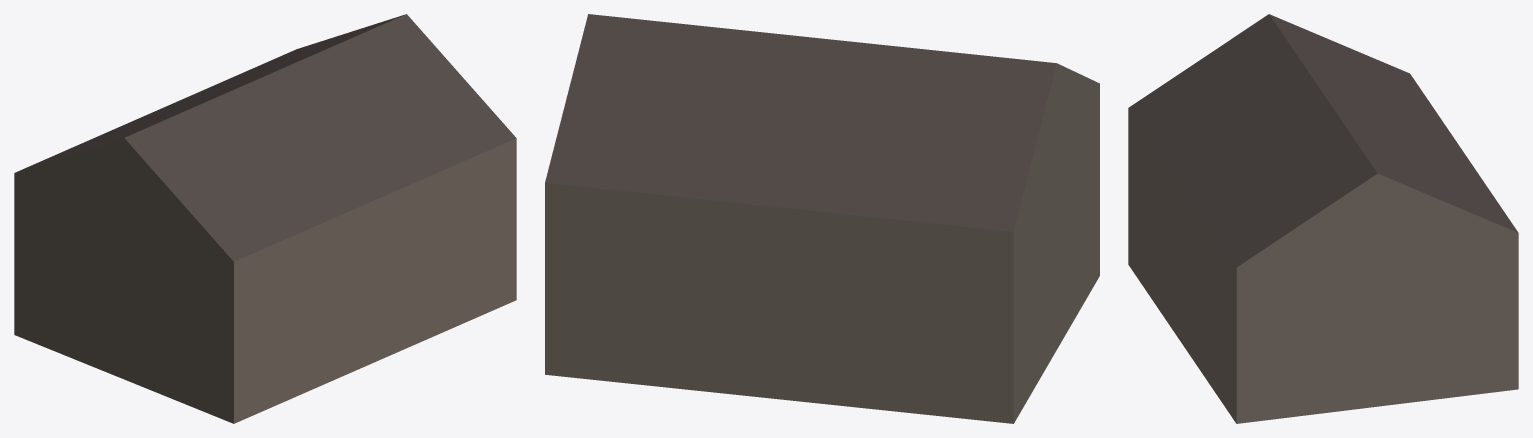
3 renders of one model, left to right at view 1: azimuth 30°, elevation 25°; view 2: azimuth 150°, elevation 25°; view 3: azimuth 270°, elevation 25°, orthographic. The views are drawn at different scales.
Parts seen in each view (by area): view 1: HP-w1202493210; view 2: HP-w1202493210; view 3: HP-w1202493210.
Part boxes in pixels (bbox=[...]): HP-w1202493210: bbox=[14, 14, 516, 423]; HP-w1202493210: bbox=[545, 14, 1099, 423]; HP-w1202493210: bbox=[1128, 14, 1518, 423].
Bounding box in the file's own units: 15.99 × 8.95 × 13.59.
